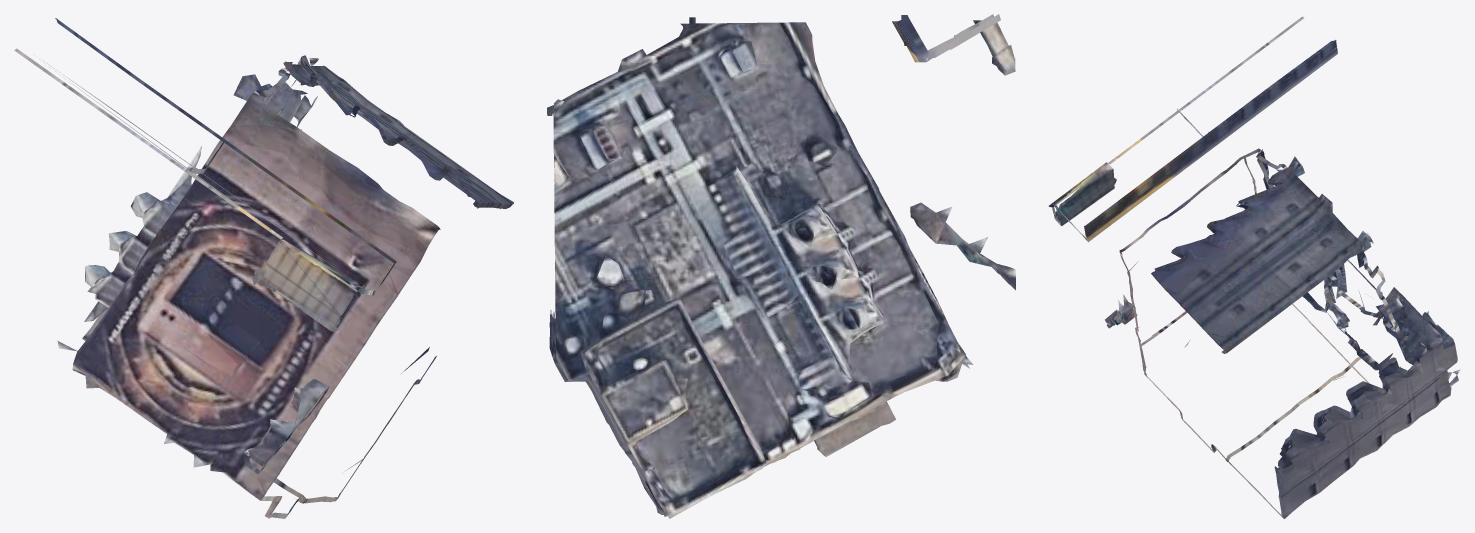
The picture shows the model from 3 angles, left to right: view 1: azimuth 30°, elevation 25°; view 2: azimuth 150°, elevation 25°; view 3: azimuth 270°, elevation 25°; orthographic projection. The views are drawn at different scales.
Size of the model in its own units: 44.25 by 48.93 by 46.6.
Materials: 1 (1 with a texture image).
